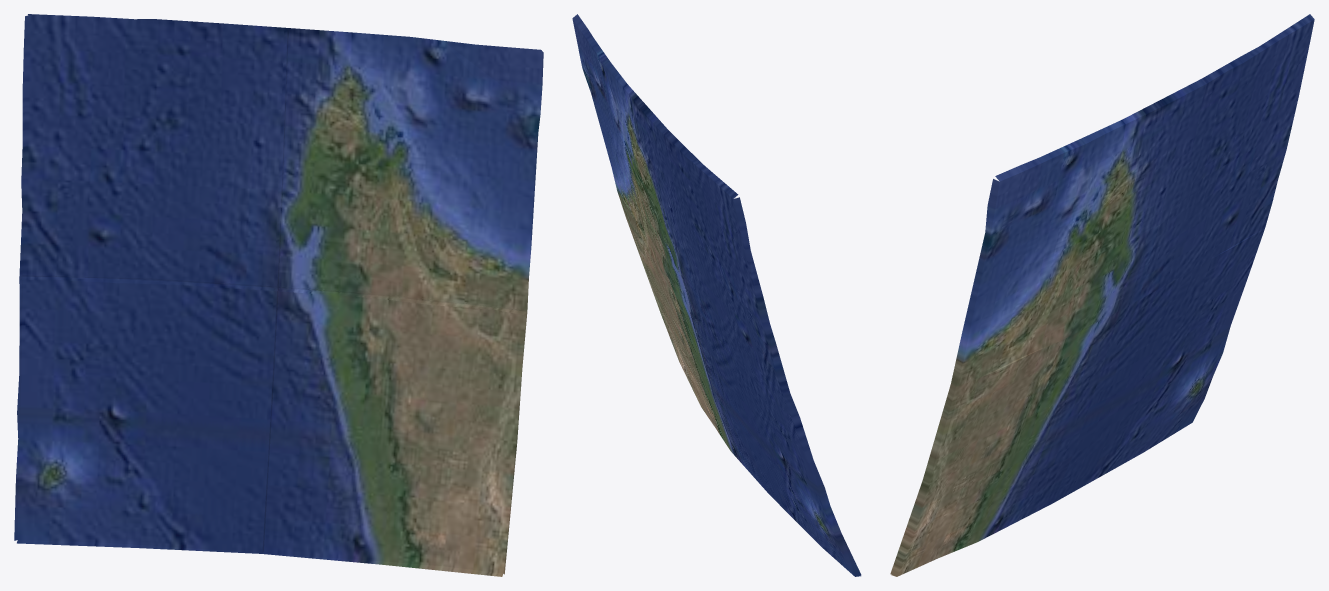
3 views of the same model, side by side, from view 1: azimuth 30°, elevation 25°; view 2: azimuth 150°, elevation 25°; view 3: azimuth 270°, elevation 25° (orthographic). The views are drawn at different scales.
Size of the model in its own units: 1166646 by 1208028 by 1048782.
1 material, 1 textured.
